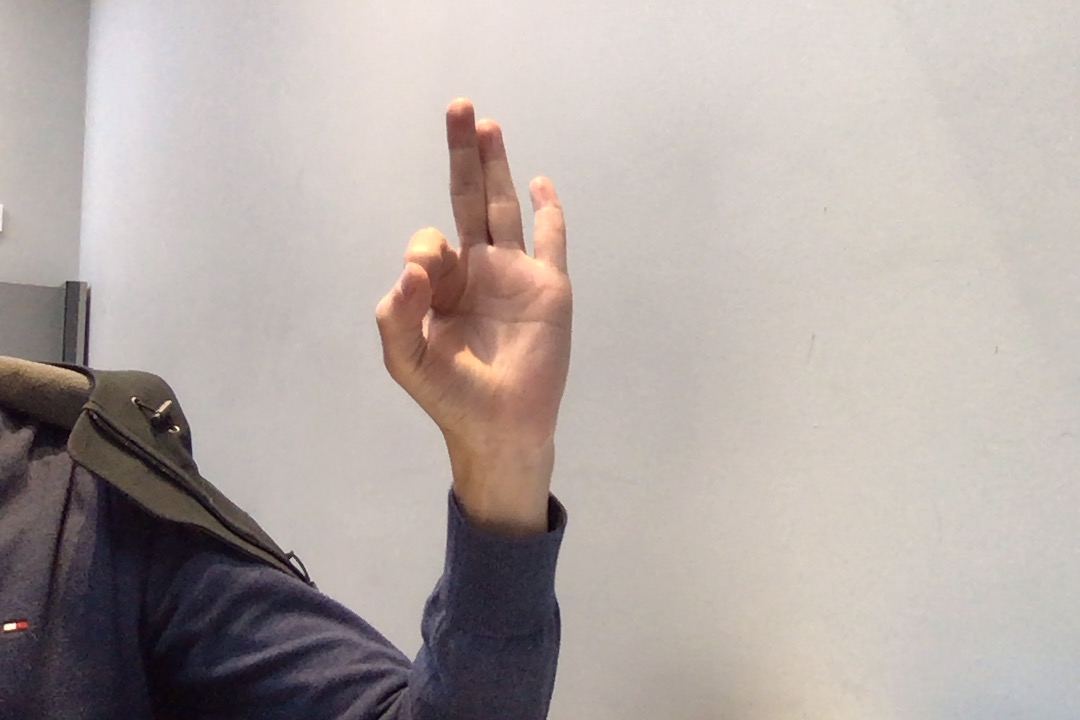oksign: (362, 93, 582, 439)
